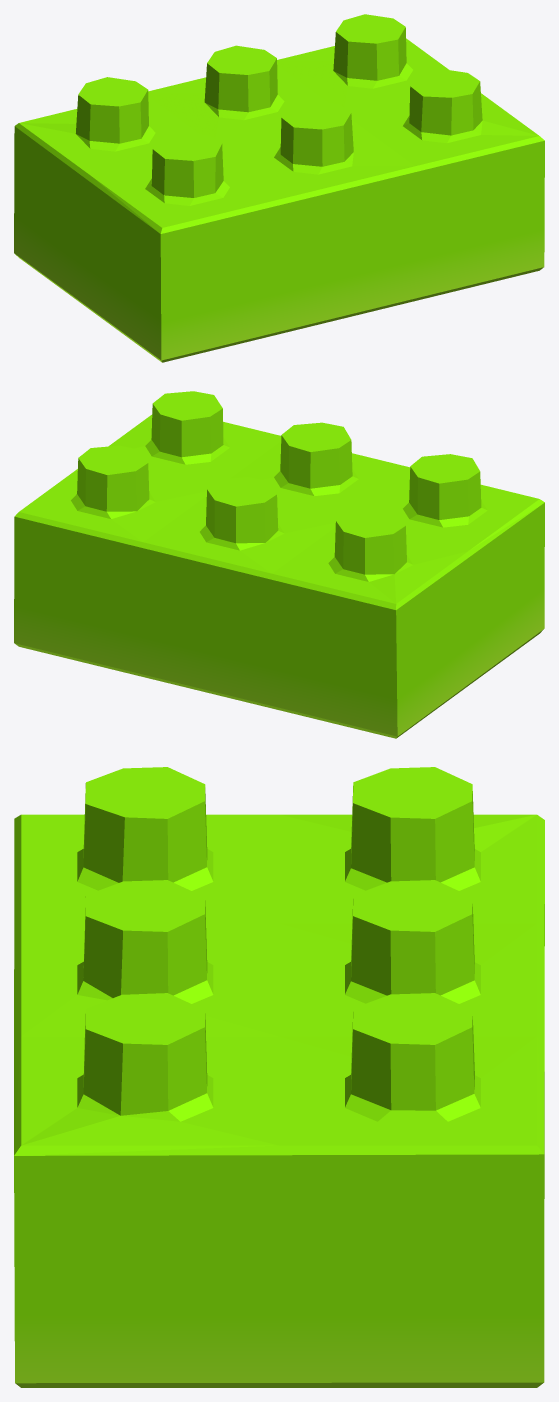
The model's file is yesillego.fbx.
The picture shows the model from 3 angles, top to bottom: view 1: azimuth 30°, elevation 25°; view 2: azimuth 150°, elevation 25°; view 3: azimuth 270°, elevation 25°; orthographic projection. The views are drawn at different scales.
Parts seen in each view (by area): view 1: Cube.120; view 2: Cube.120; view 3: Cube.120.
Boxes of the visible parts, x1,y1,x2,y2 form: Cube.120: (14,14,544,362); Cube.120: (14,391,544,738); Cube.120: (14,767,544,1387).
Bounding box in the file's own units: 298 × 199 × 131.
